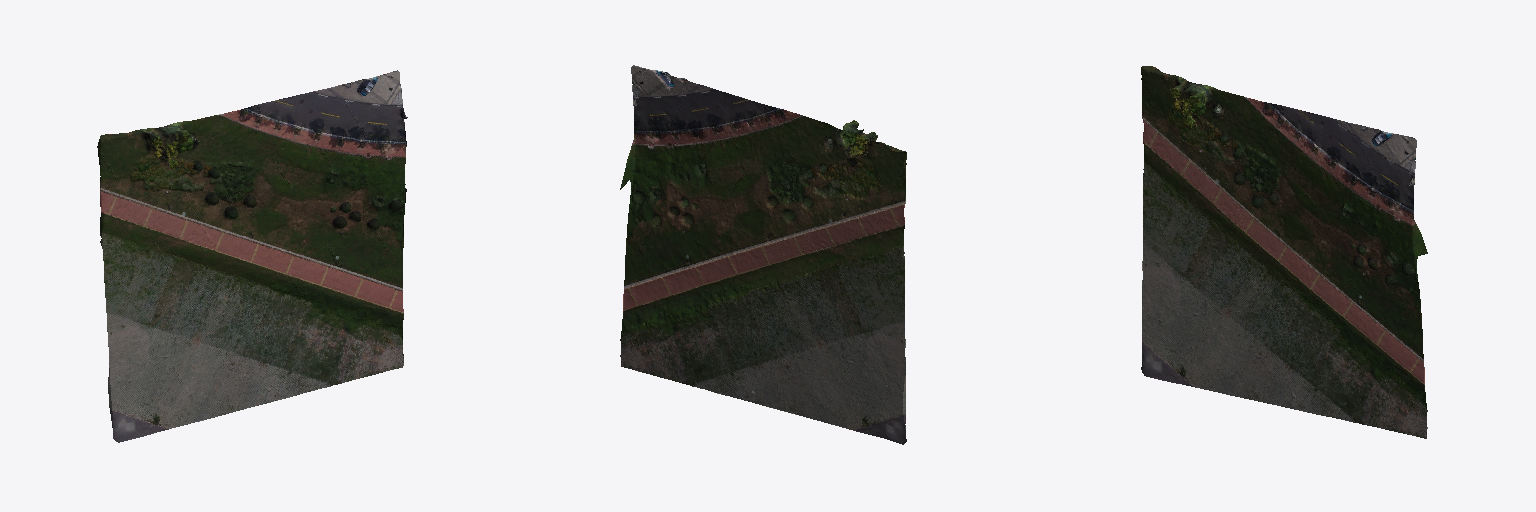
The picture shows the model from 3 angles: view 1: azimuth 30°, elevation 25°; view 2: azimuth 150°, elevation 25°; view 3: azimuth 330°, elevation 25°; orthographic projection.
Parts seen in each view (by area): view 1: Mesh; view 2: Mesh; view 3: Mesh.
Boxes of the visible parts, box(x1,y1,x2,y2) form: Mesh: box(97, 70, 407, 442); Mesh: box(620, 65, 906, 444); Mesh: box(1141, 66, 1427, 438).
Size of the model in its own units: 61.54 by 61.54 by 8.45.
1 materials, 1 textured.